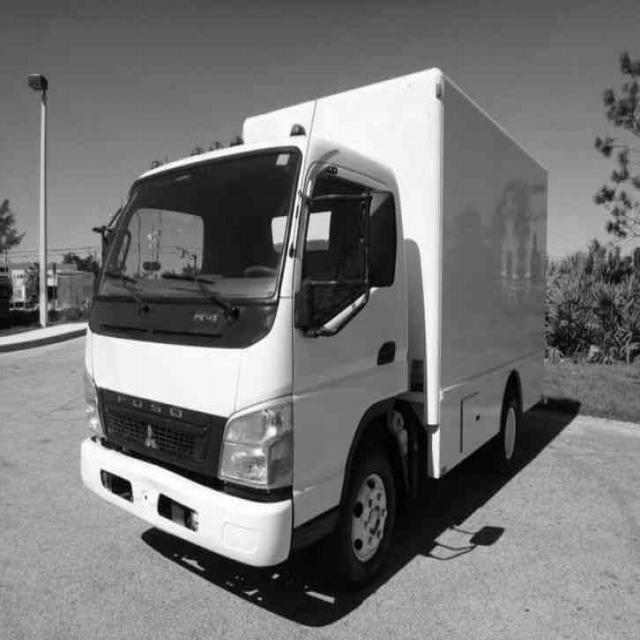truck: (51, 85, 454, 603)
